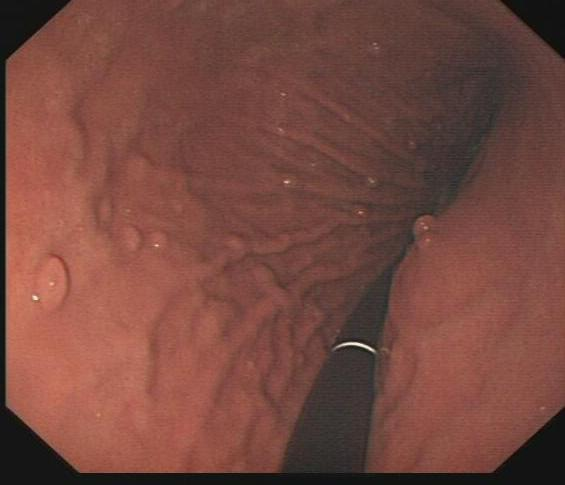Polyp: (28, 249, 82, 317)
